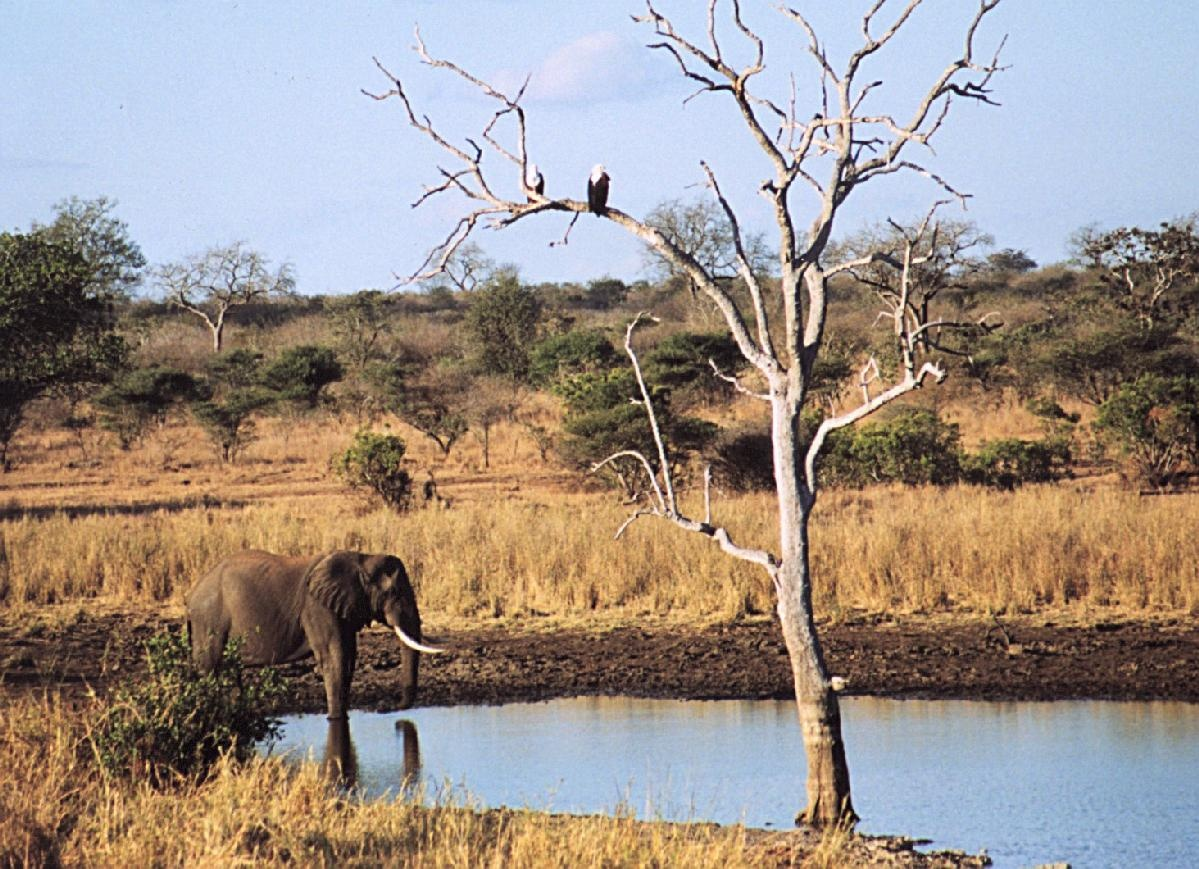elephant: (317, 636, 587, 813)
